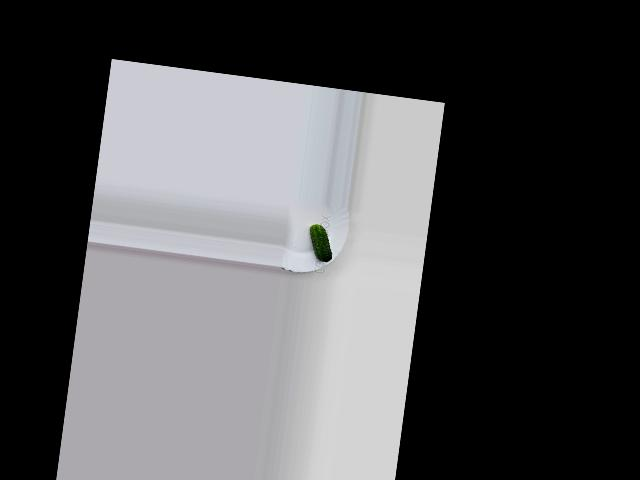cucumber: (305, 223, 335, 262)
